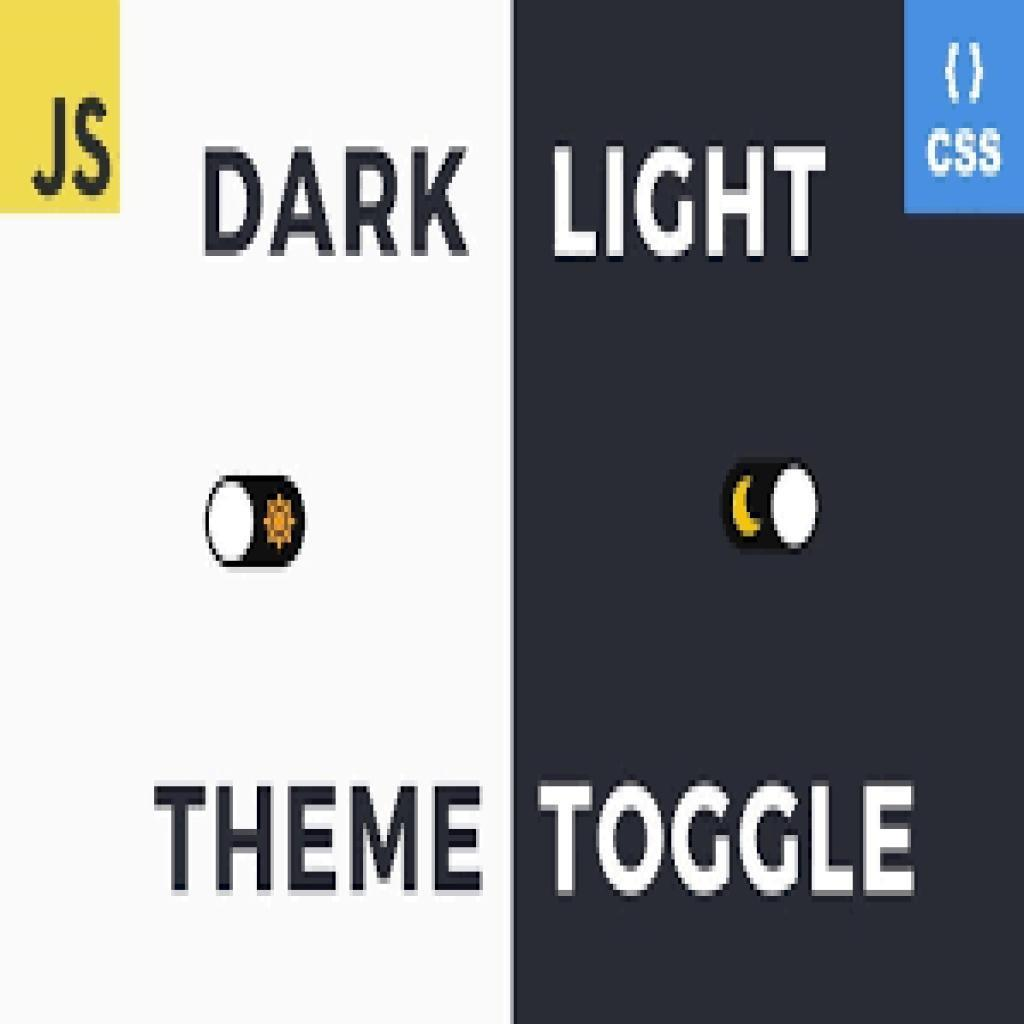switch: (205, 474, 311, 572), (720, 455, 824, 553)
